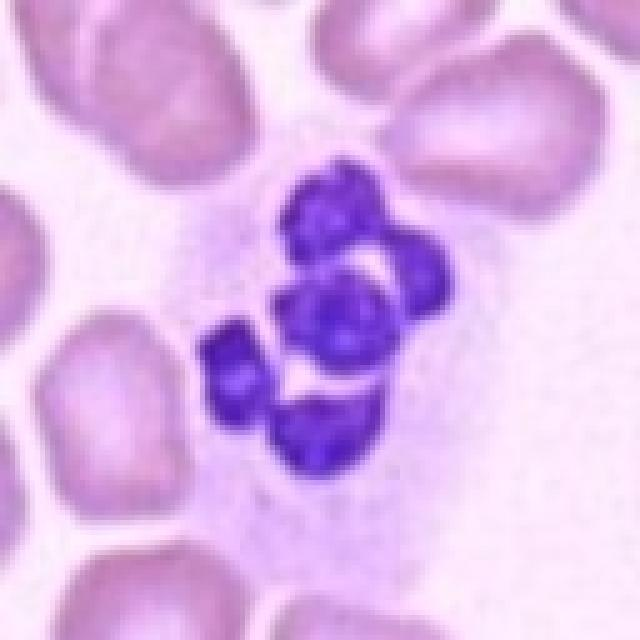neutro: (76, 119, 577, 544)
